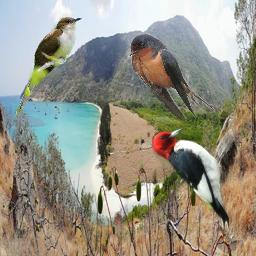Cuckoo: (15, 16, 83, 116)
Swallow: (128, 33, 215, 121)
Woodpecker: (152, 127, 229, 230)
